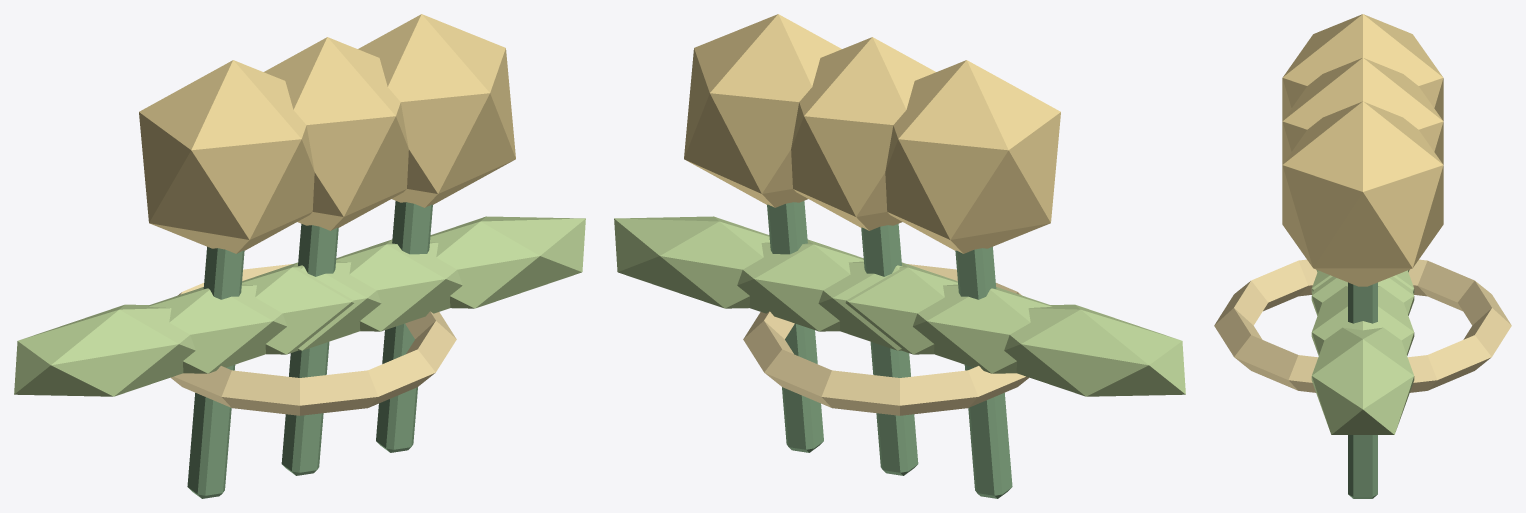
Rendered from cargo_blessings.fbx.
3 views of the same model, side by side, from view 1: azimuth 30°, elevation 25°; view 2: azimuth 150°, elevation 25°; view 3: azimuth 270°, elevation 25° (orthographic). The views are drawn at different scales.
Visible parts, largest first — view 1: cargo_blessings_mesh; view 2: cargo_blessings_mesh; view 3: cargo_blessings_mesh.
Part boxes in pixels (x1,y1,x2,y2): cargo_blessings_mesh: [14, 14, 585, 498]; cargo_blessings_mesh: [614, 14, 1185, 498]; cargo_blessings_mesh: [1214, 14, 1511, 498].
Size of the model in its own units: 0.7283 by 0.521 by 0.346.
